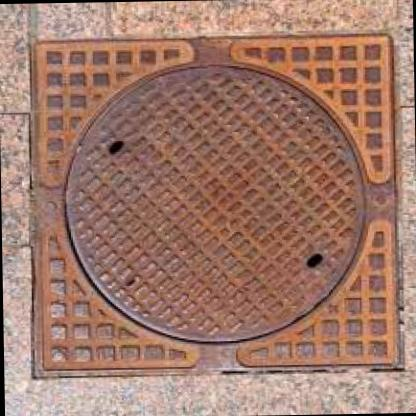manholes: (53, 61, 380, 356)
